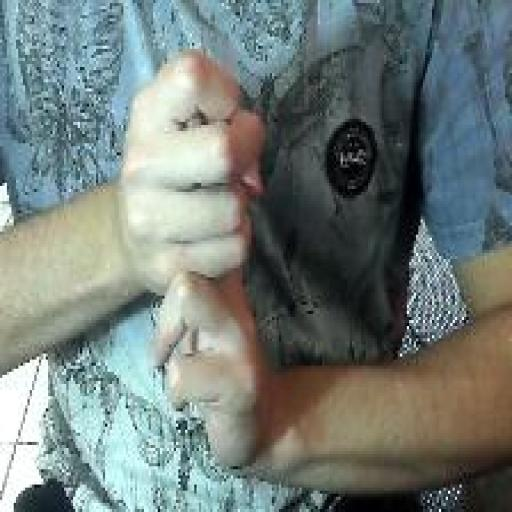Ne -rat-: (116, 40, 276, 478)
